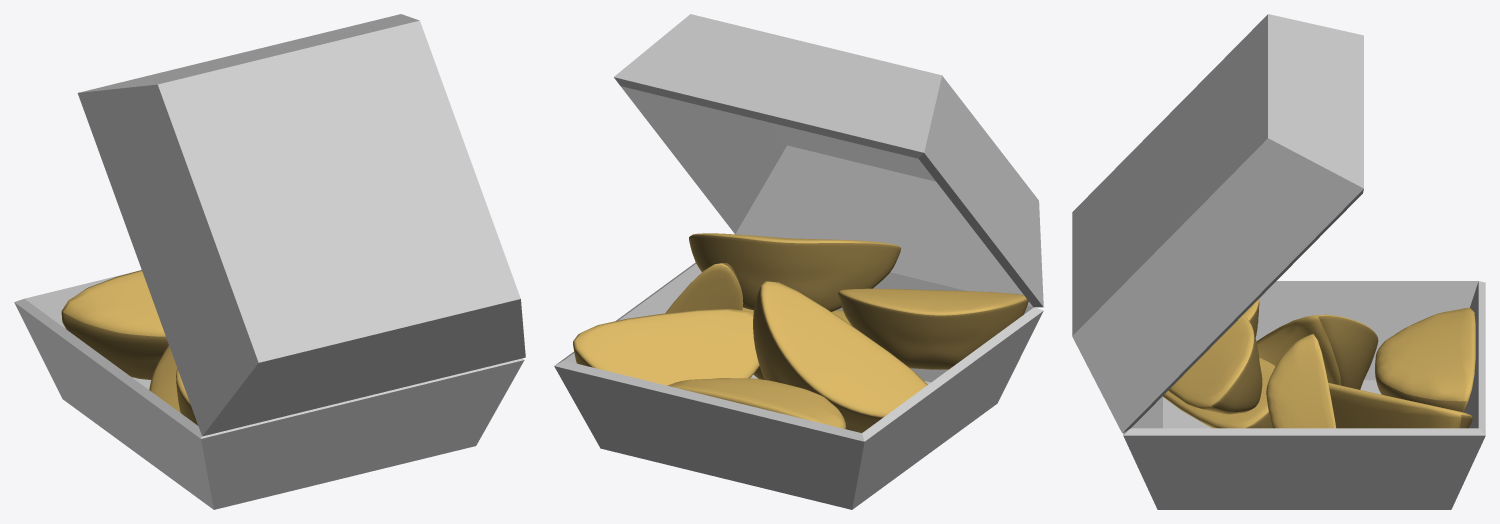
The model's file is PatatasDeluxe.fbx.
3 views of the same model, side by side, from view 1: azimuth 30°, elevation 25°; view 2: azimuth 150°, elevation 25°; view 3: azimuth 270°, elevation 25° (orthographic). The views are drawn at different scales.
Visible parts, largest first — view 1: CajaPatatasDeluxe, Sphere.006; view 2: CajaPatatasDeluxe, Sphere.006; view 3: CajaPatatasDeluxe, Sphere.006.
Part boxes in pixels (left/top/right/bottom): CajaPatatasDeluxe: left=14, top=14, right=525, bottom=509; Sphere.006: left=61, top=270, right=198, bottom=425; CajaPatatasDeluxe: left=554, top=14, right=1043, bottom=509; Sphere.006: left=573, top=233, right=1028, bottom=432; CajaPatatasDeluxe: left=1072, top=14, right=1485, bottom=509; Sphere.006: left=1162, top=299, right=1475, bottom=428.
Bounding box in the file's own units: 0.1597 × 0.1805 × 0.1819.
